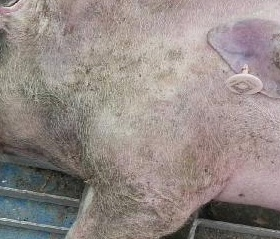text: (215, 58, 276, 110)
